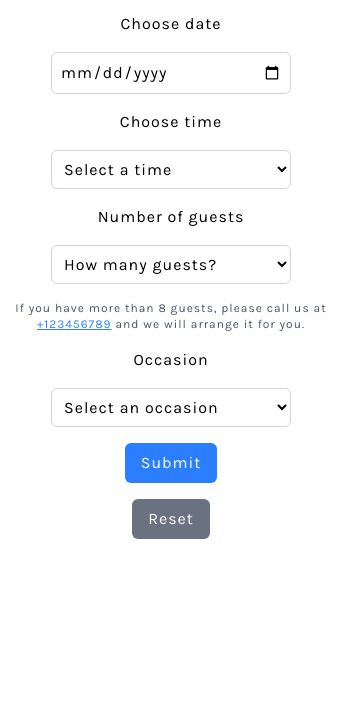
Test case: BookingForm › validates required fields before submission
Click the button "Submit": (171, 463) [125,443,217,483]
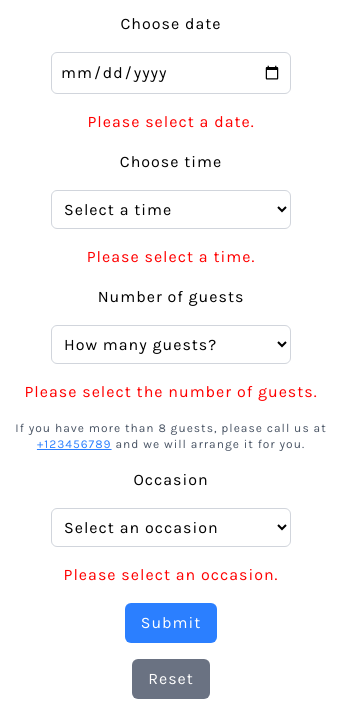
expect the text "Please select a date." is shown: met, box [87,110,255,134]
expect the text "Please select a time." is shown: met, box [87,245,255,269]
expect the text "Please select the number of guests." is shown: met, box [24,380,318,404]
